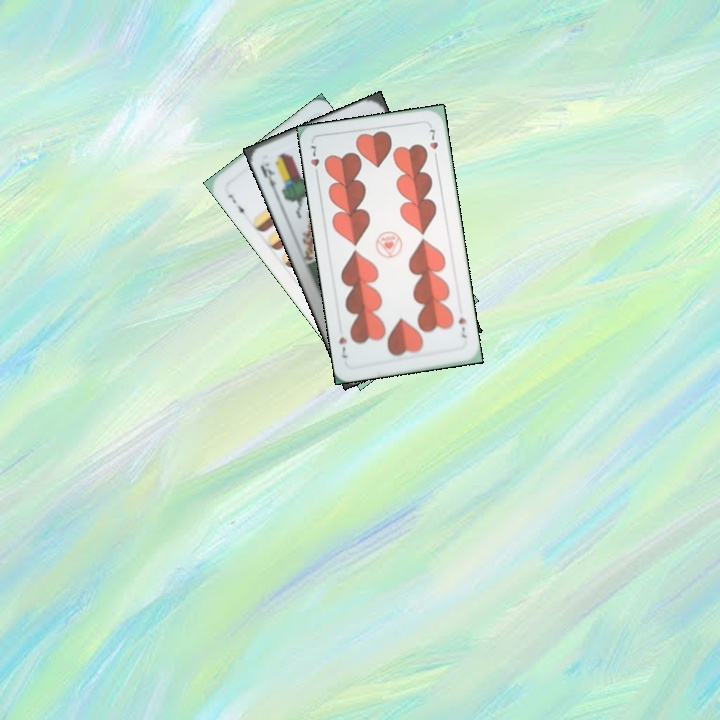E7: (224, 190, 248, 220)
EK: (256, 159, 280, 196)
H7: (306, 140, 322, 180), (455, 313, 469, 340)
